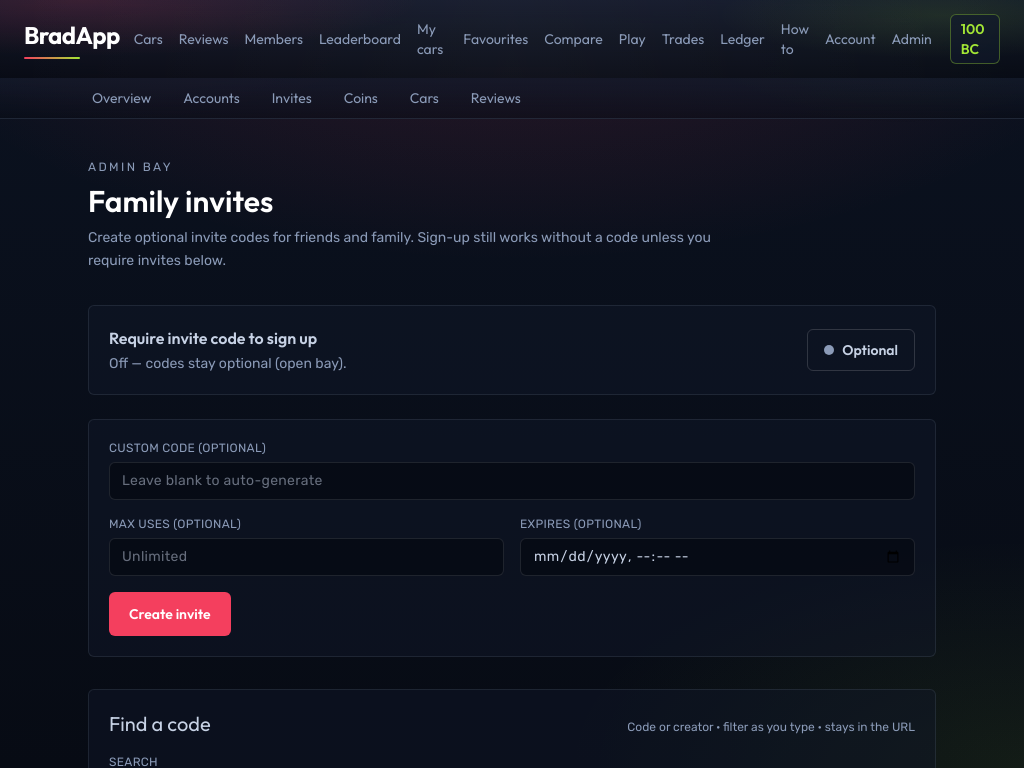
Test: AdminInvitesPage › toggles require invite code for signup
Expected: the heading "Family invites" is shown, [88,182,273,220]
Click the switch named "Require invite code to sign up".
click(861, 350)  # box [807,328,915,370]
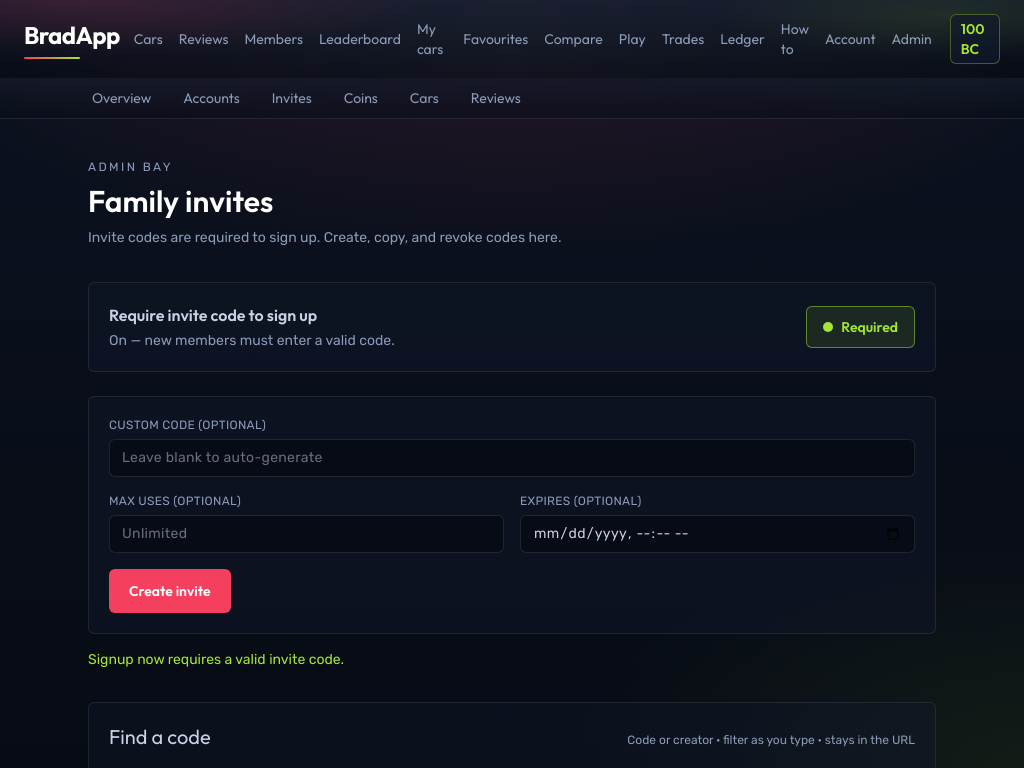
Expected: the text "Signup now requires a valid invite code." is shown, [88,651,344,668]
